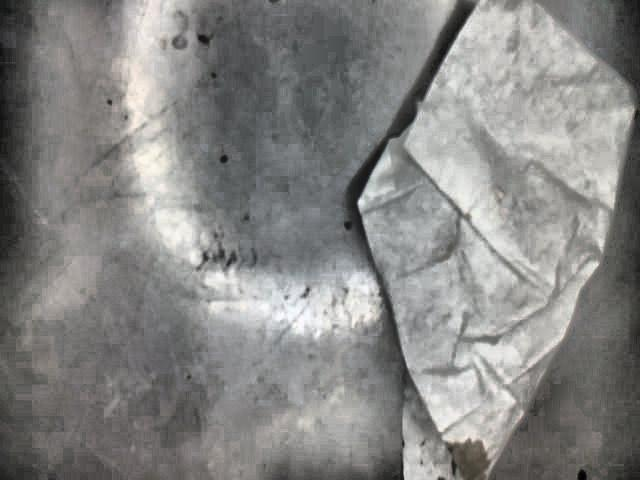Paper: (356, 0, 639, 480)
